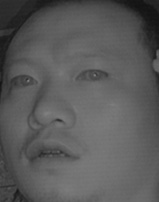eye: (75, 64, 108, 86), (8, 69, 40, 91)
mouth: (21, 133, 83, 171)
